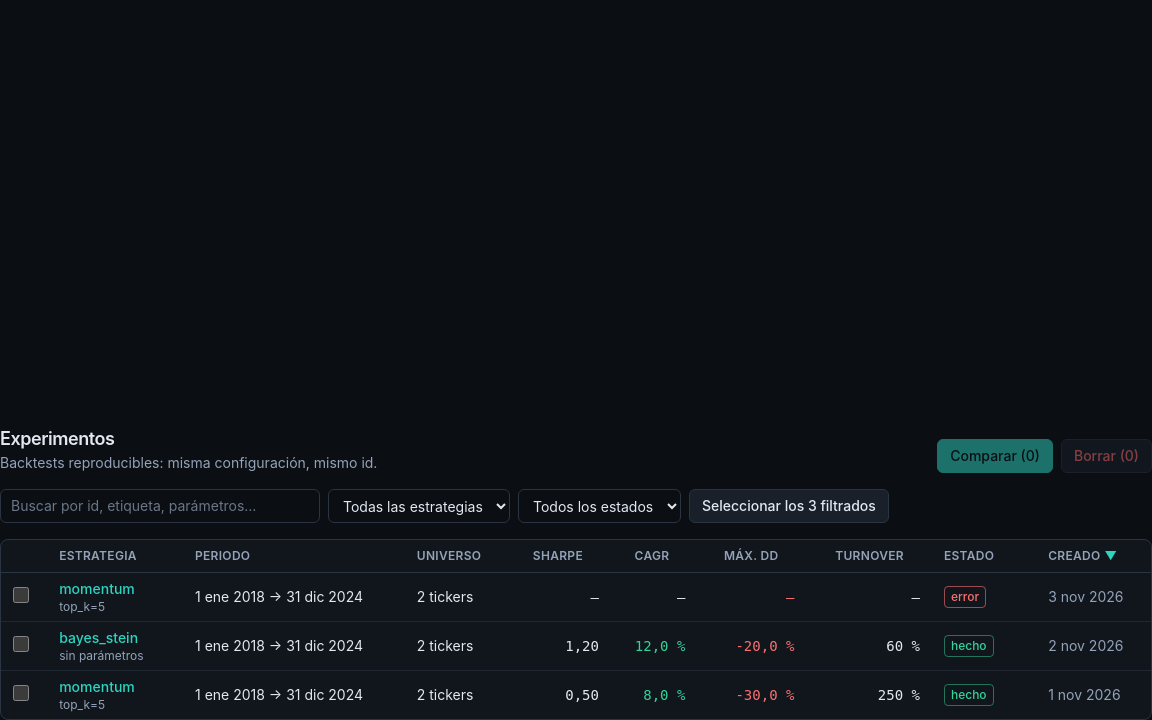
Experimentos › borra los seleccionados tras confirmar y avisa de los que siguen en marcha
(page scrolled)
Expected: the table named "Experimentos" is shown, [1, 540, 1151, 719]
Click the checkbox named "Seleccionar momentum-1": (21, 692) [13, 684, 29, 700]
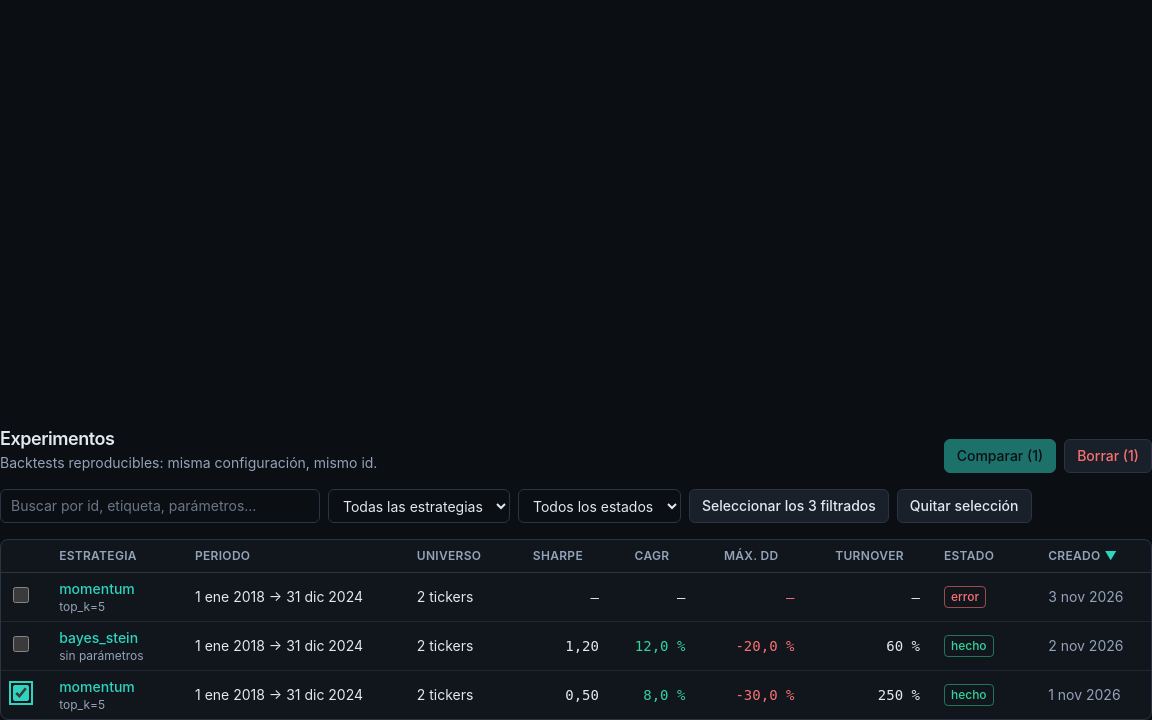
Click the checkbox named "Seleccionar bayes_stein-2": (21, 644) [13, 636, 29, 652]
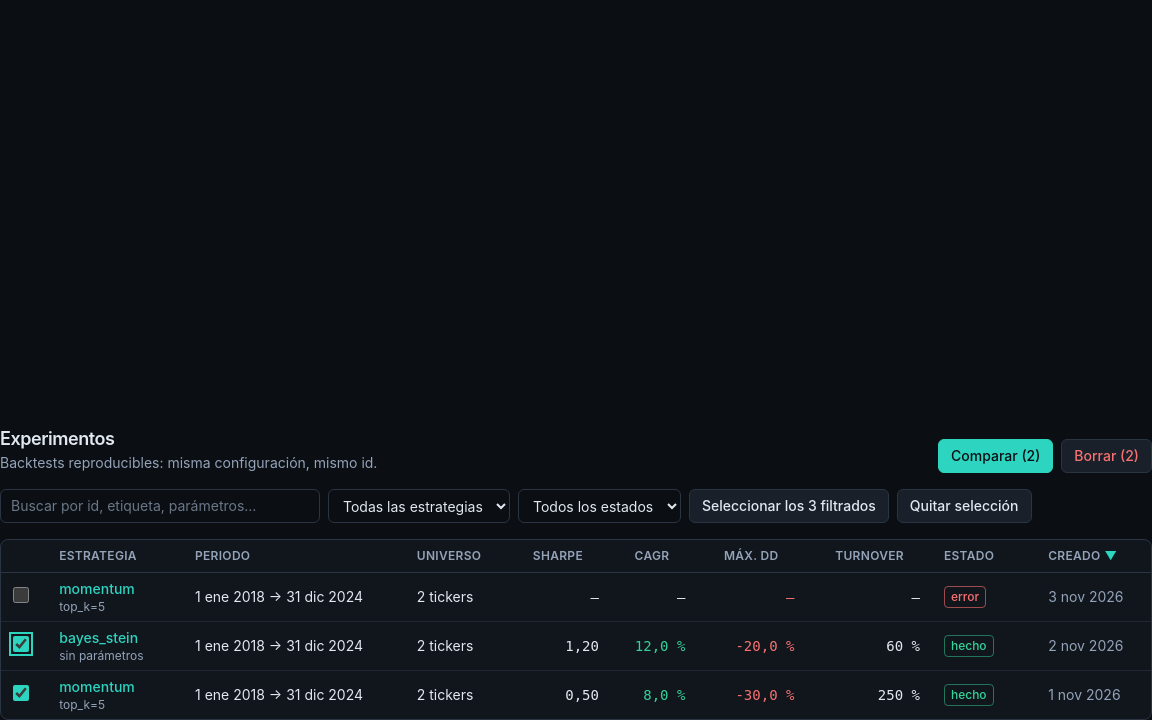
Click the button "Borrar (2)": (1107, 456) [1061, 439, 1151, 473]
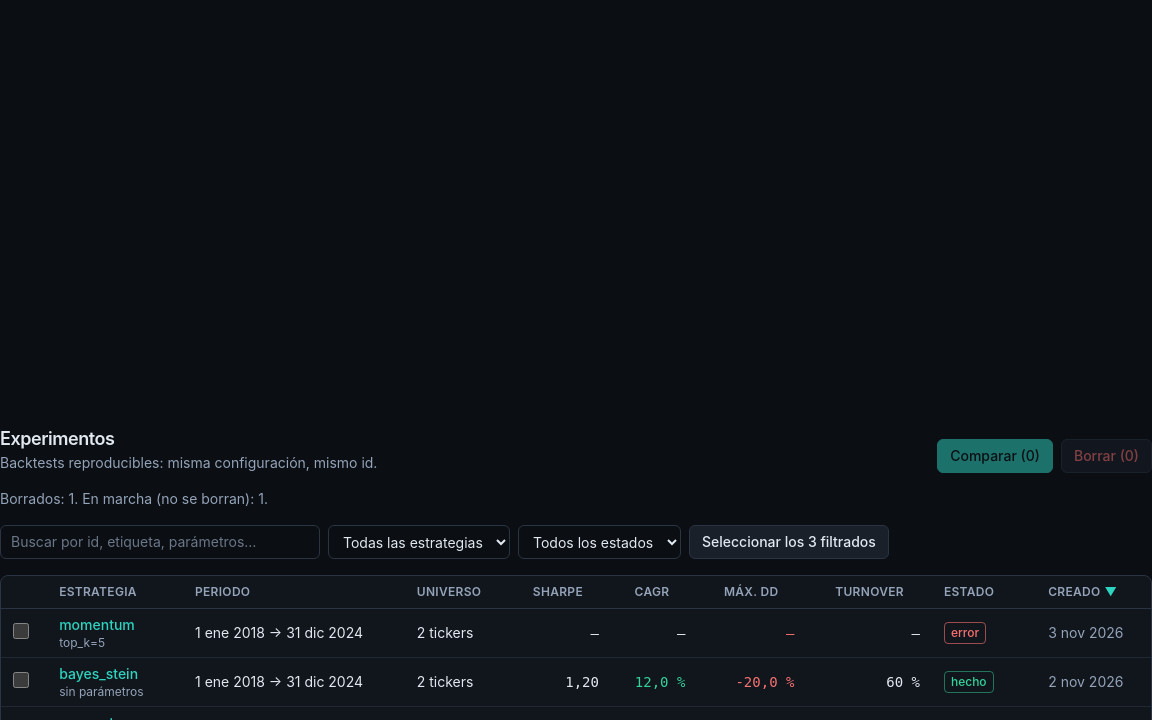
Result: the message named "Resultado del borrado" reads "Borrados: 1. En marcha (no se borran): 1." at [0, 490, 268, 507]
